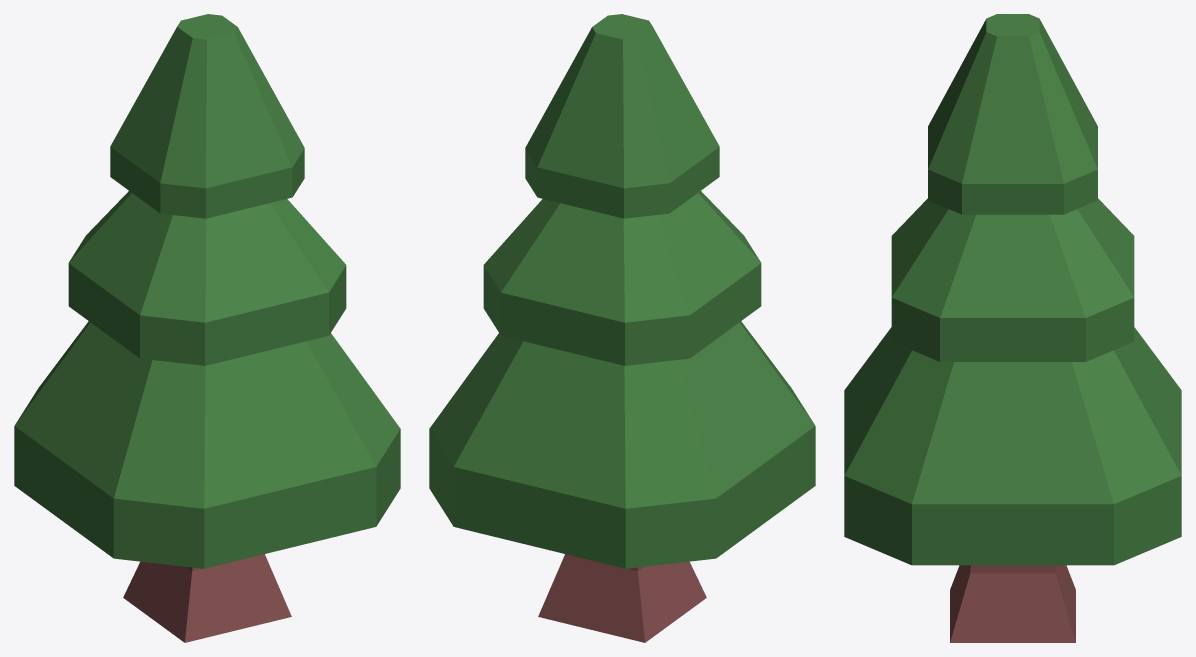
Rendered from tree2.fbx.
3 views of the same model, side by side, from view 1: azimuth 30°, elevation 25°; view 2: azimuth 150°, elevation 25°; view 3: azimuth 270°, elevation 25° (orthographic).
Parts seen in each view (by area): view 1: polySurface44, polySurface57; view 2: polySurface44, polySurface57; view 3: polySurface44, polySurface57.
Boxes of the visible parts, box(x1,y1,x2,y2) form: polySurface44: box(14, 14, 400, 568); polySurface57: box(123, 554, 291, 642); polySurface44: box(429, 14, 815, 568); polySurface57: box(538, 554, 706, 642); polySurface44: box(844, 14, 1181, 565); polySurface57: box(950, 565, 1075, 642).
Bounding box in the file's own units: 50 × 96.72 × 50.
